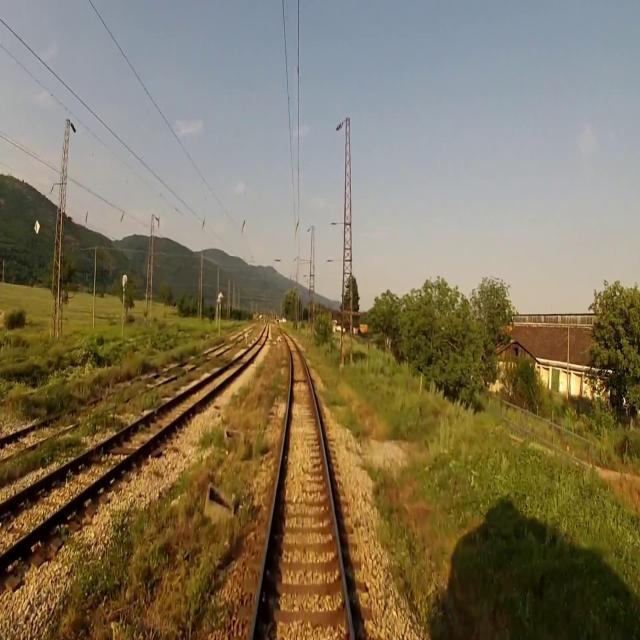rail-track: (0, 328, 266, 553), (254, 335, 351, 639), (0, 339, 237, 458)
